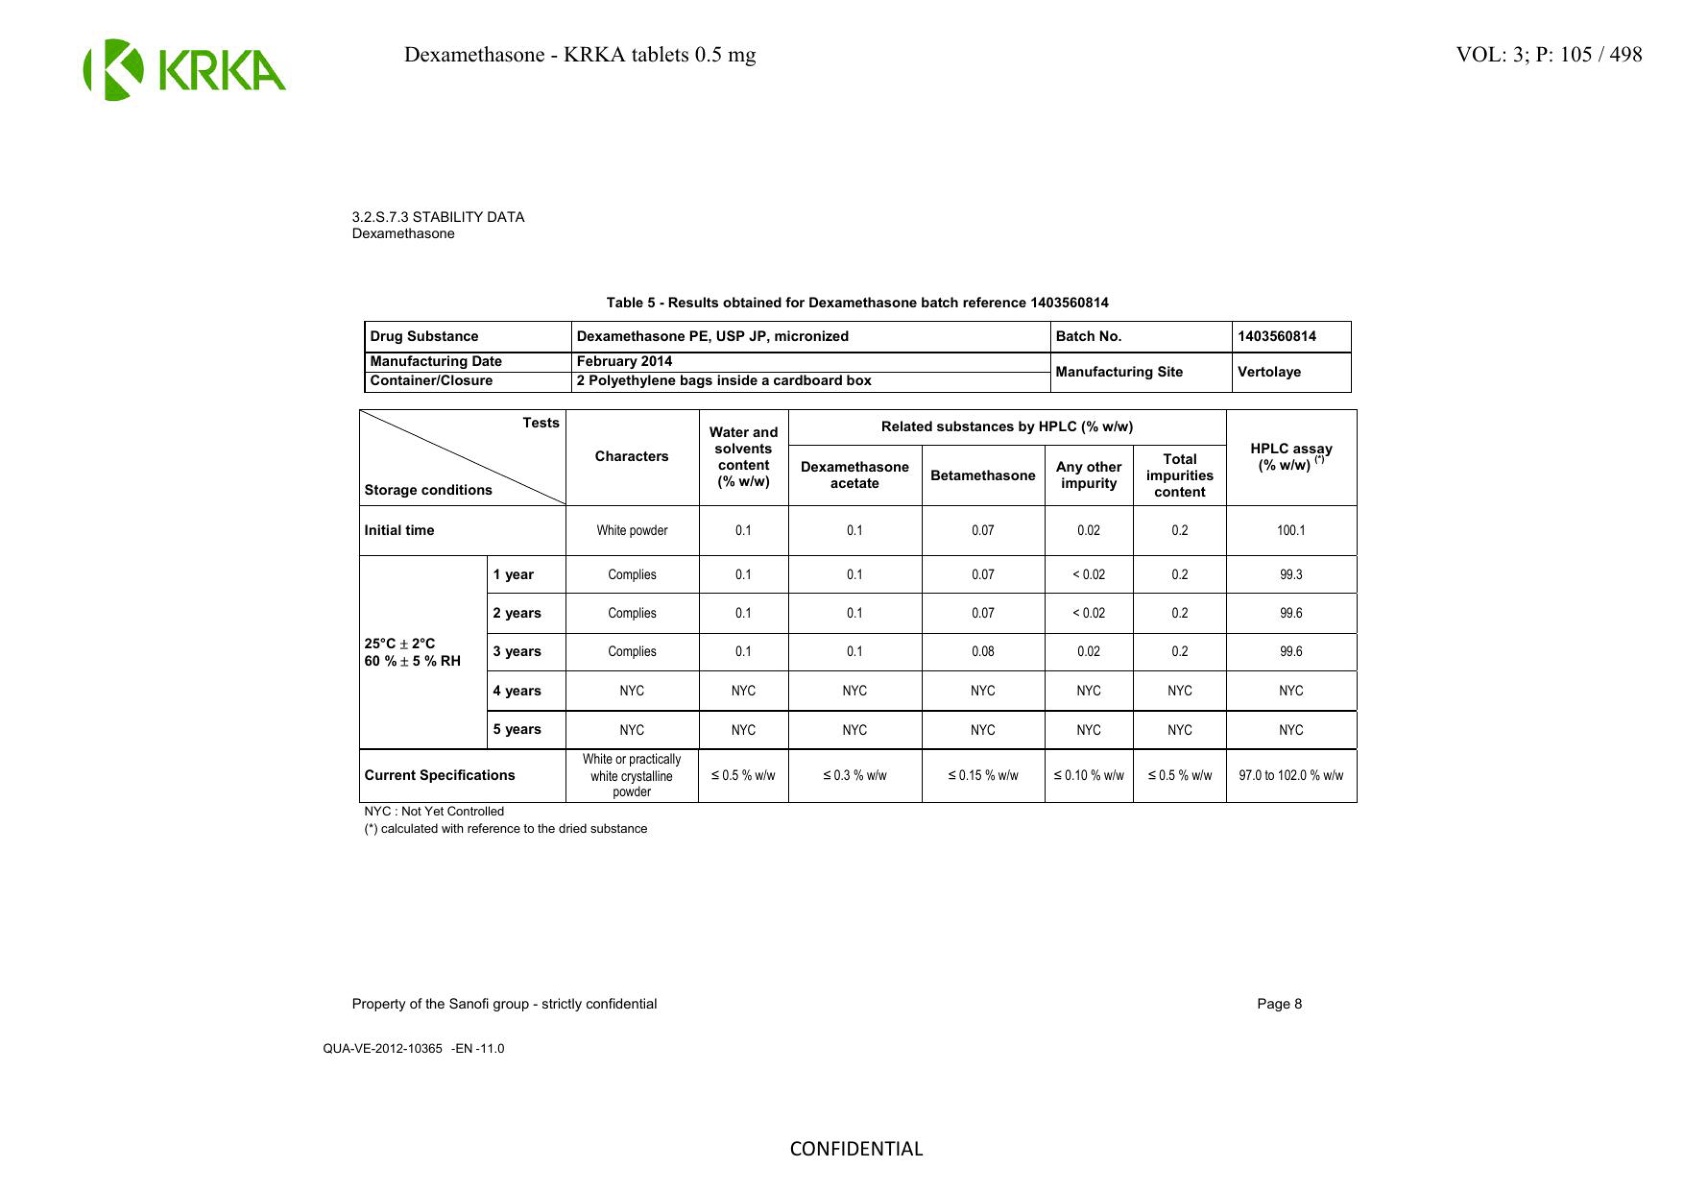merged_cells: (357, 406, 1360, 804), (364, 319, 1353, 395)
